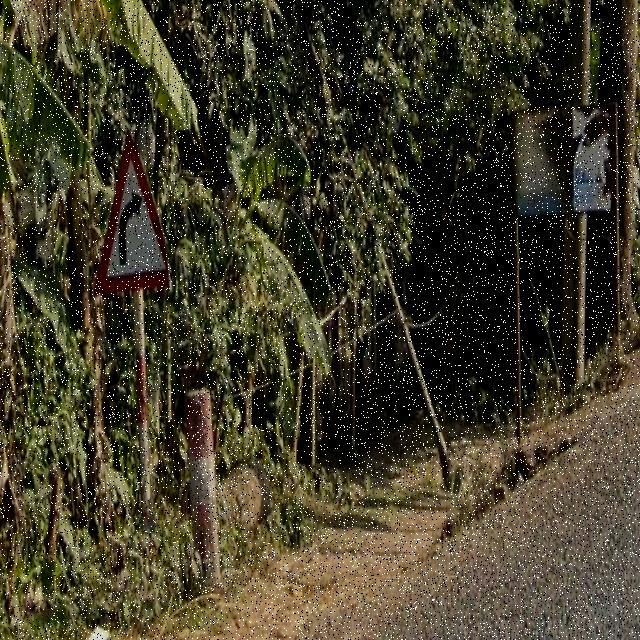Right-turn: (97, 122, 176, 301)
